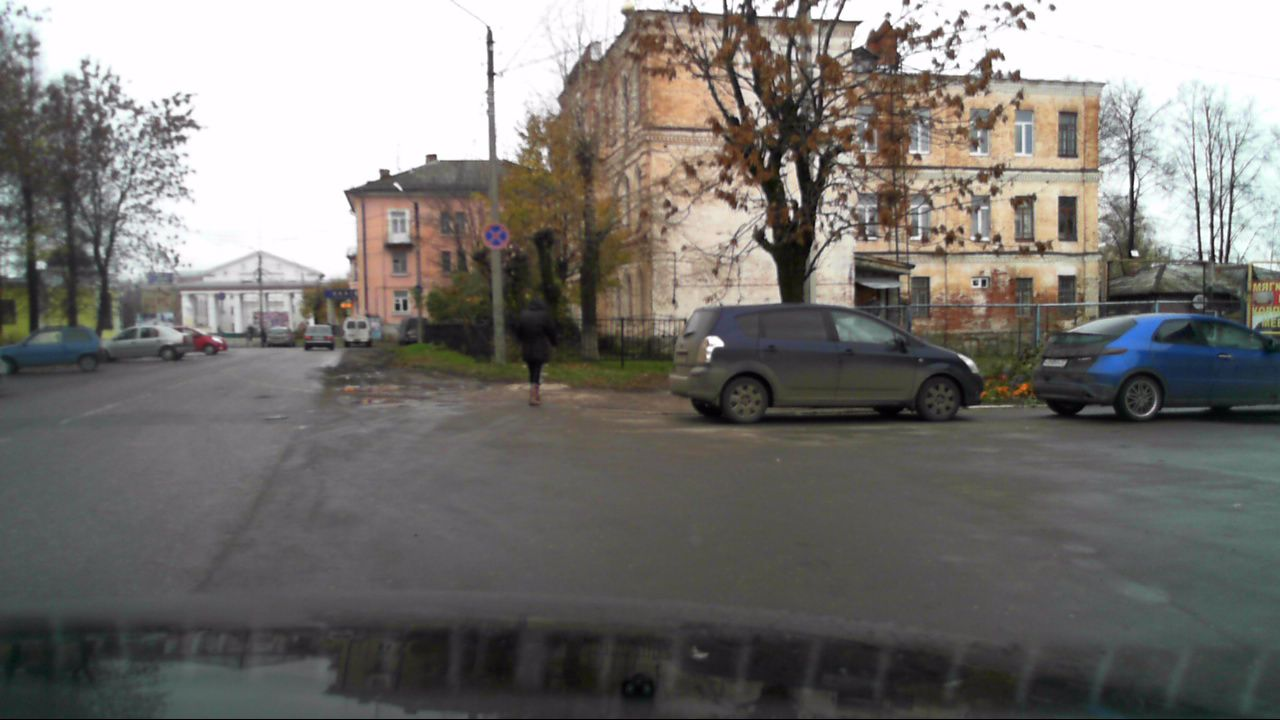No Parking: (482, 223, 510, 249)
